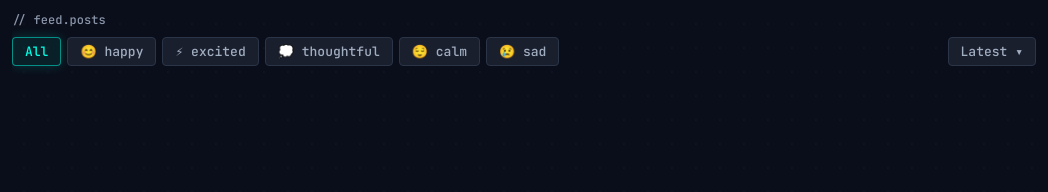
Test case: FilterBar › Sort dropdown — click button mở listbox với 3 options
Click the button with aria-label "sort order".
click(992, 52)  # box [948,37,1036,66]
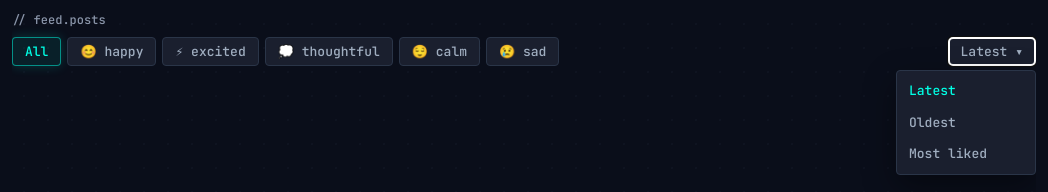
Now the list is shown, box [896,70,1036,175]
Now the option "Latest" is shown, box [897,75,1035,107]
Now the option "Oldest" is shown, box [897,107,1035,138]
